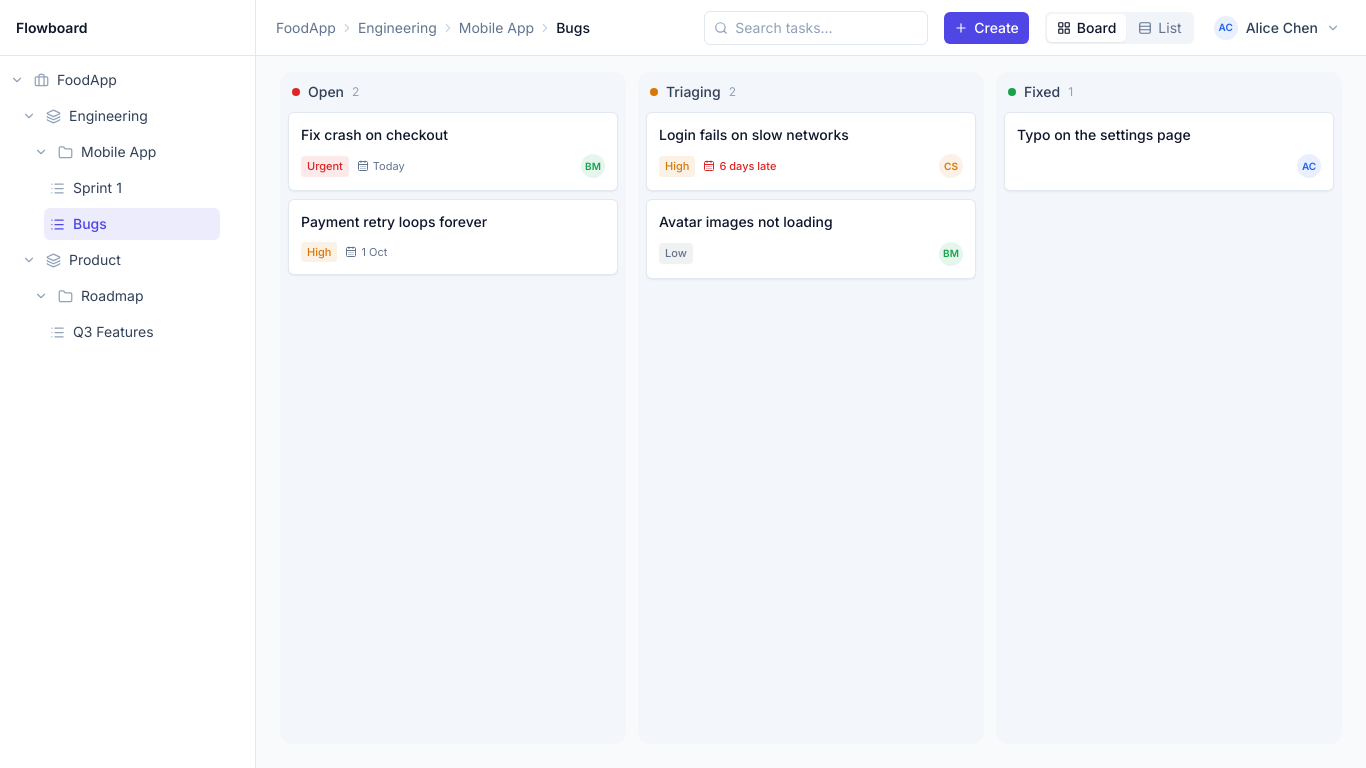
Test: Switching user changes what is on screen › replaces the board with a 403 when the open list becomes denied
The width and height of the screenshot is (1366, 768).
Check: the element "Open" is shown, box [280, 72, 626, 744]
Click the button with aria-label "Switch user": (1278, 28) [1210, 12, 1346, 44]
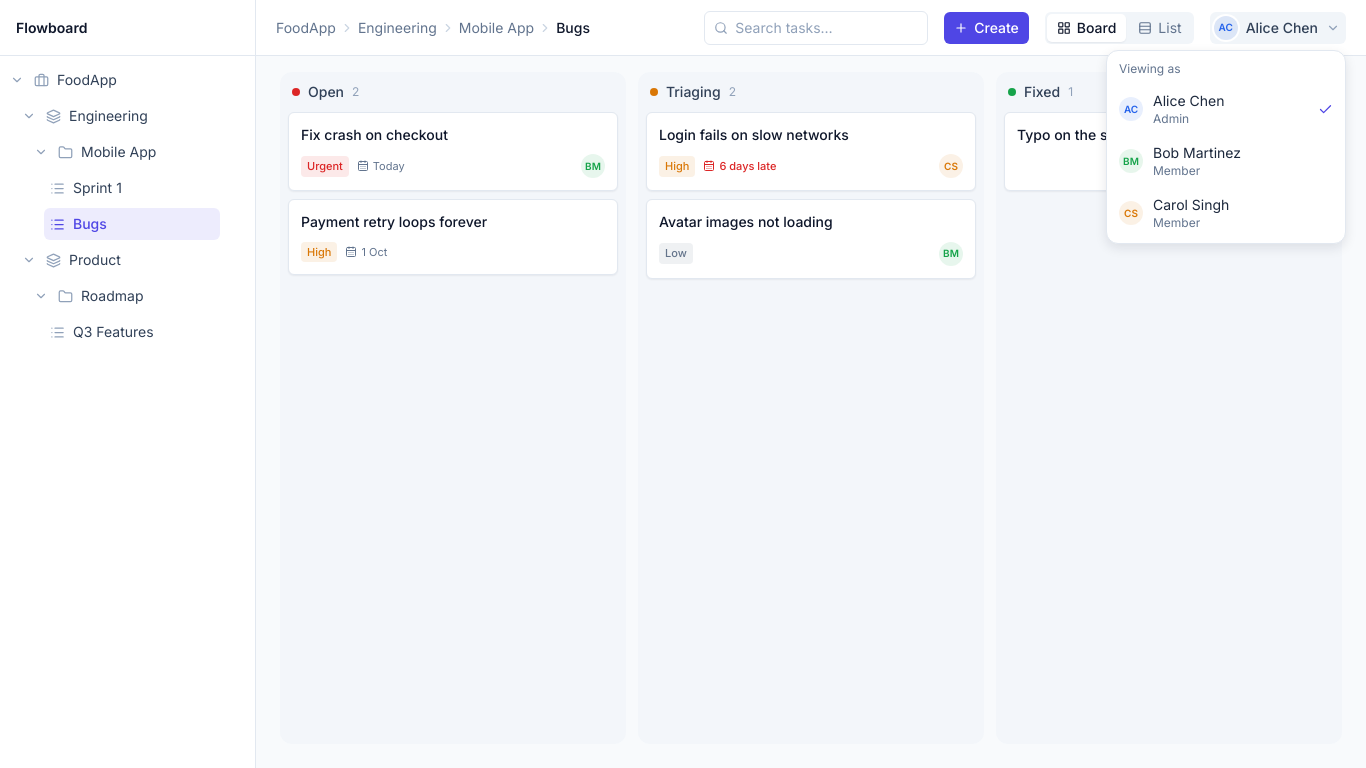
Click the menu item "BM Bob Martinez member": (1226, 161) [1111, 135, 1341, 187]
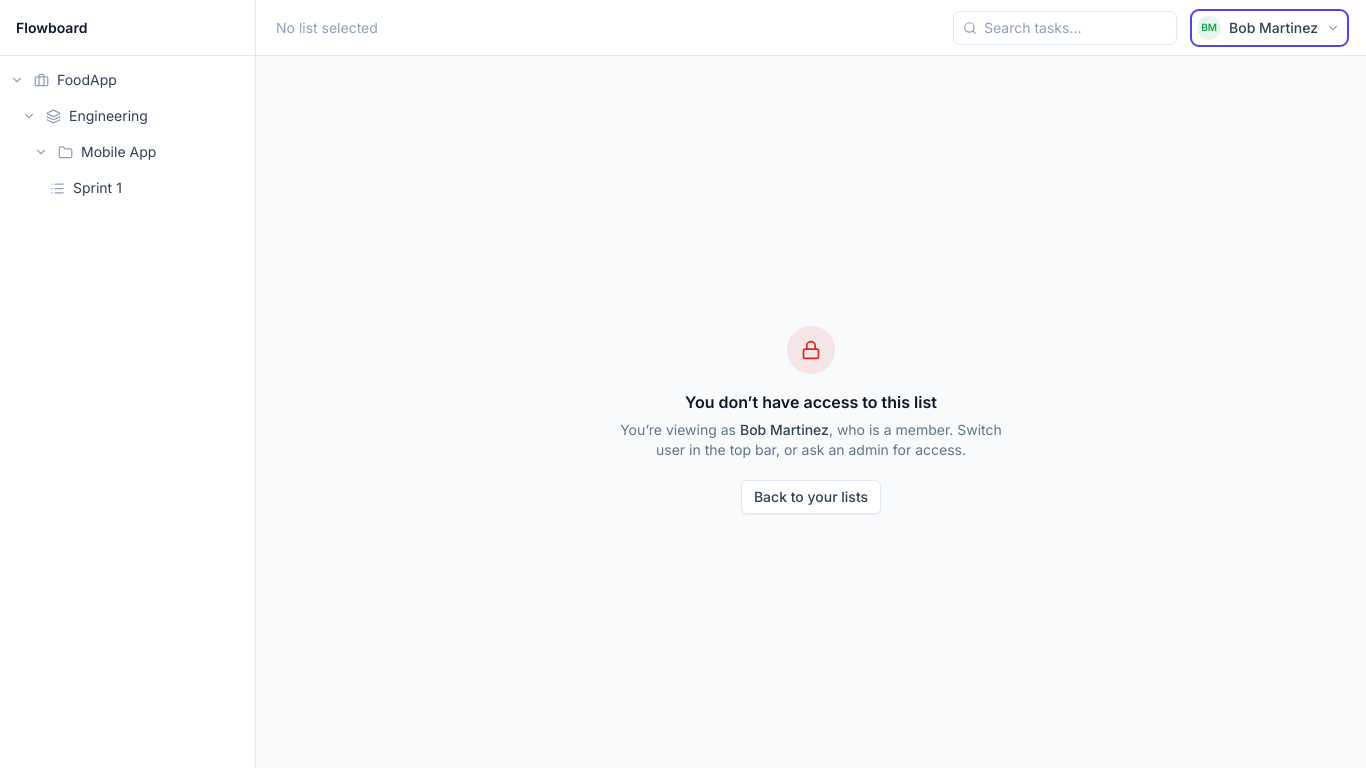
Check: the heading "You don’t have access to this list" is shown, box [685, 392, 937, 412]
Check: the heading "Open" is gone
